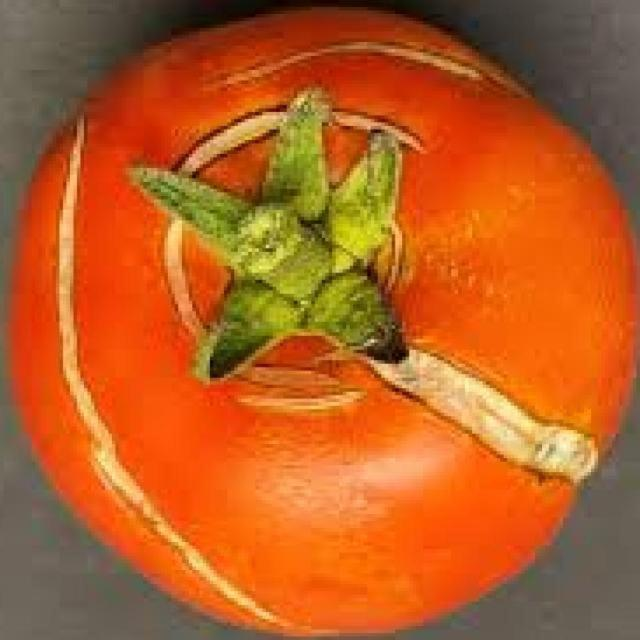Cracking Fruit: (112, 43, 252, 344)
